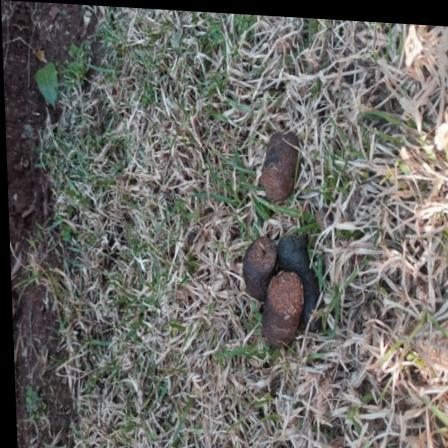dog-poop: (235, 220, 318, 351), (247, 124, 301, 201)
